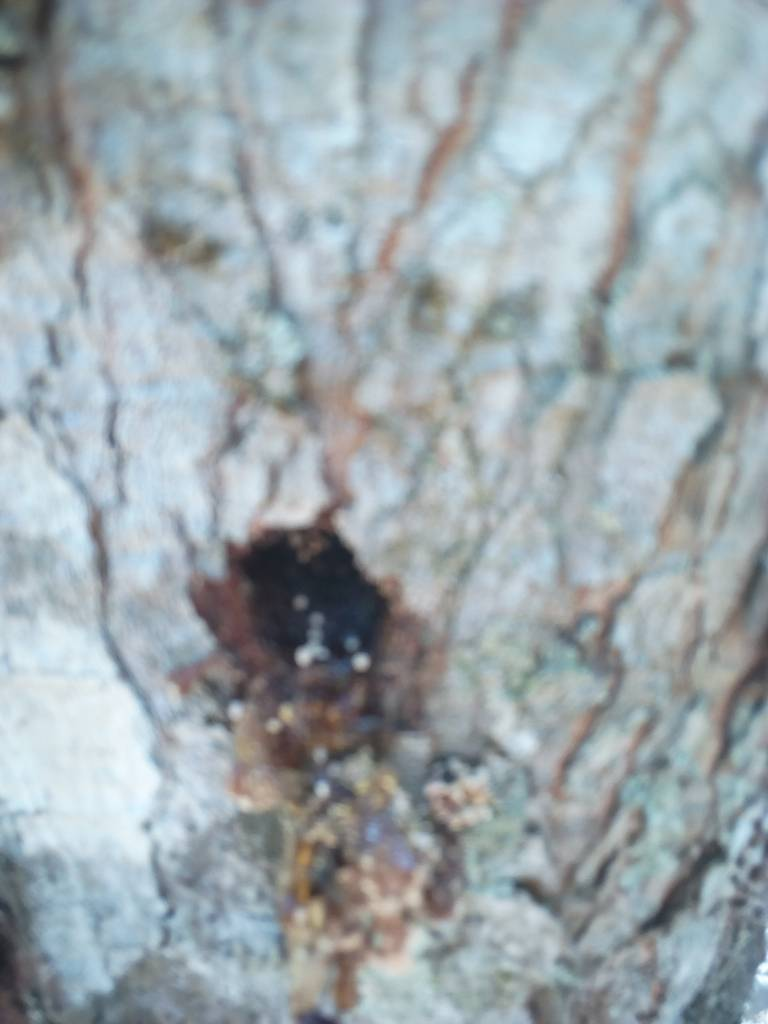Apate terebrans: (170, 505, 436, 769)
